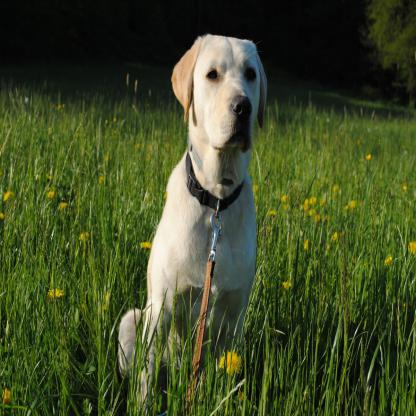Rotveler: (116, 27, 271, 376)
